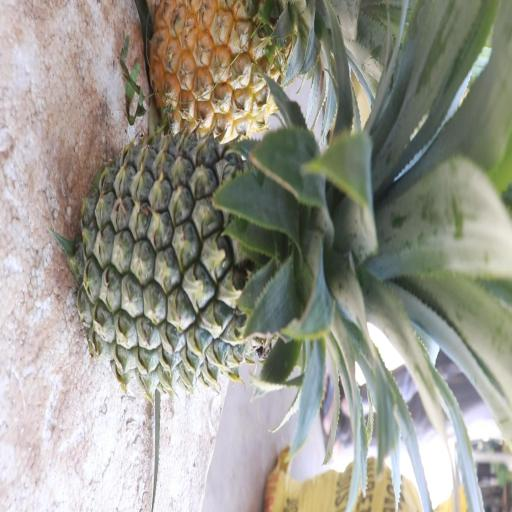Pineapple - v8 v1: (78, 132, 479, 438), (146, 0, 312, 136)
